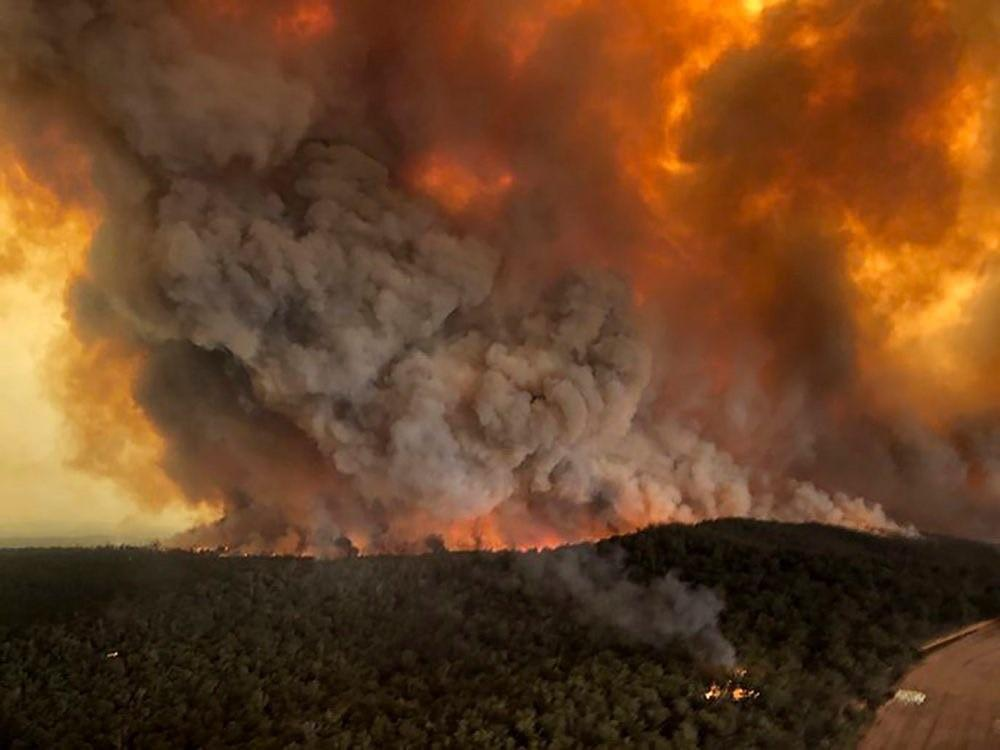fire: (696, 675, 761, 710)
smoke: (27, 29, 745, 500), (751, 66, 1000, 506), (170, 499, 513, 577), (551, 546, 747, 677), (773, 431, 947, 544)
